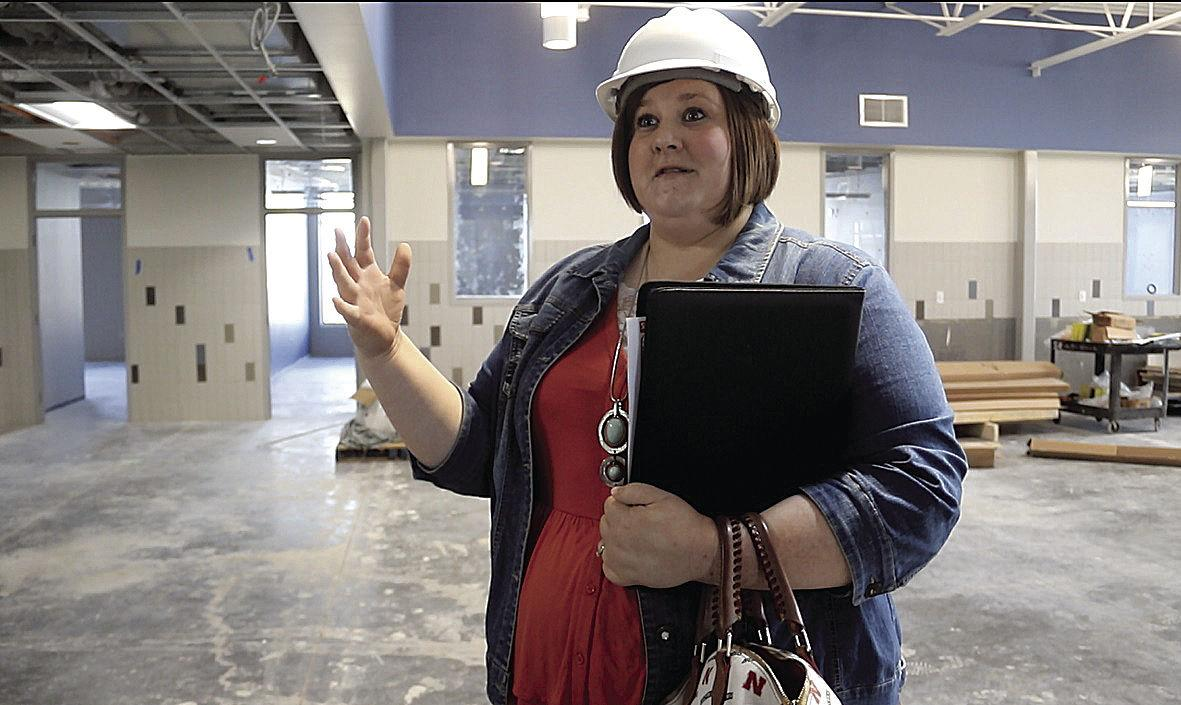helmet: (593, 6, 784, 128)
